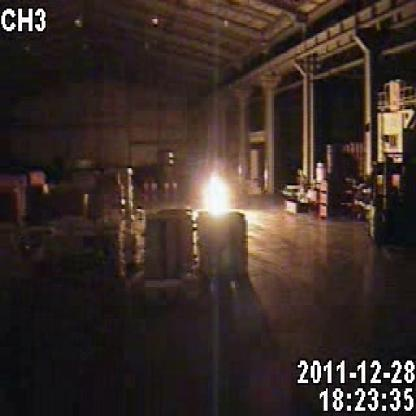fire: (180, 157, 254, 233), (247, 160, 249, 161)
